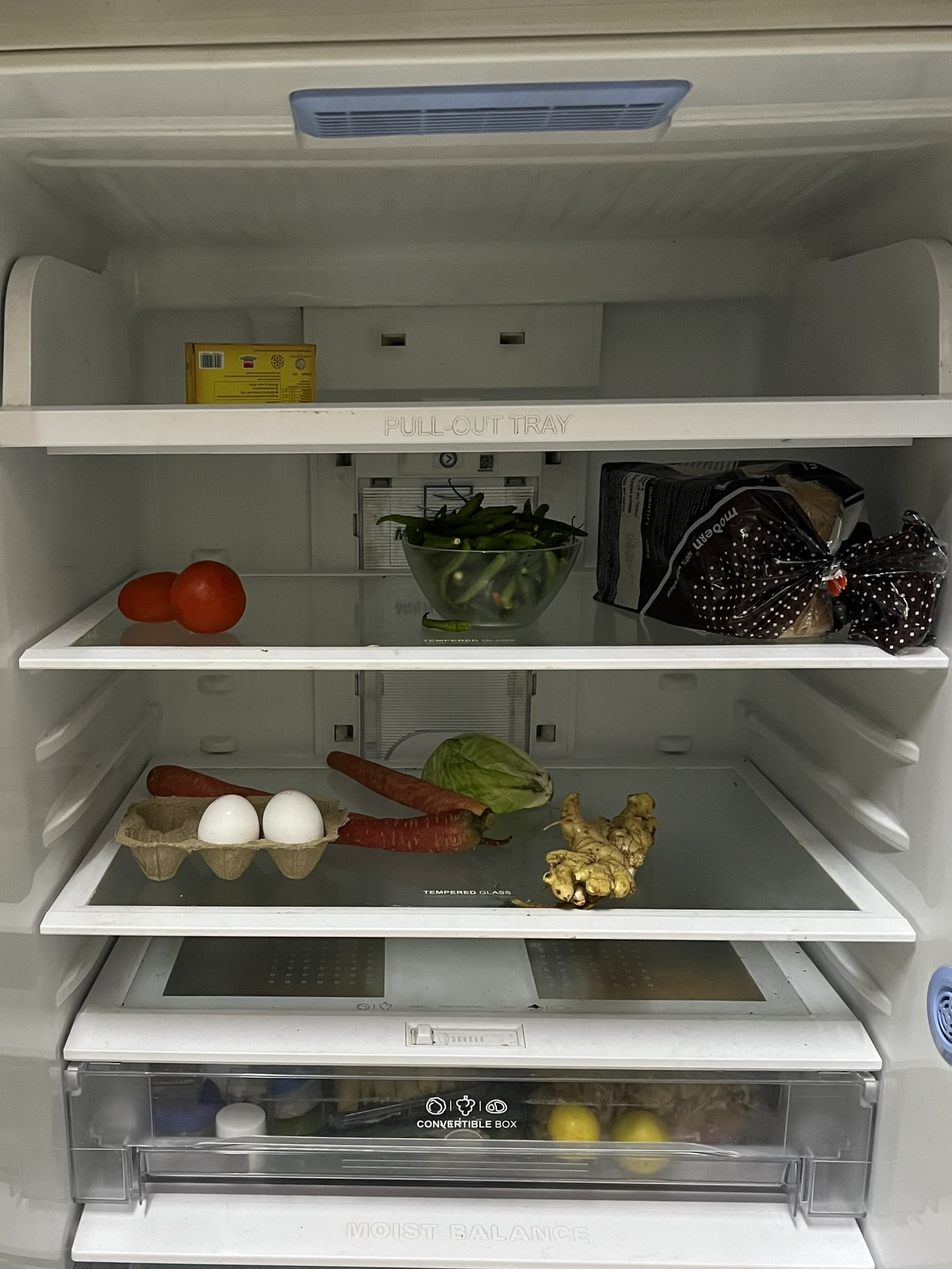bread: (595, 462, 945, 649)
butter: (186, 339, 322, 402)
carrots: (321, 746, 498, 832)
chillies: (401, 500, 583, 617)
cucumber: (424, 728, 558, 802)
egg: (157, 788, 332, 884)
ginger: (539, 793, 660, 900)
tomato: (119, 557, 247, 633)
